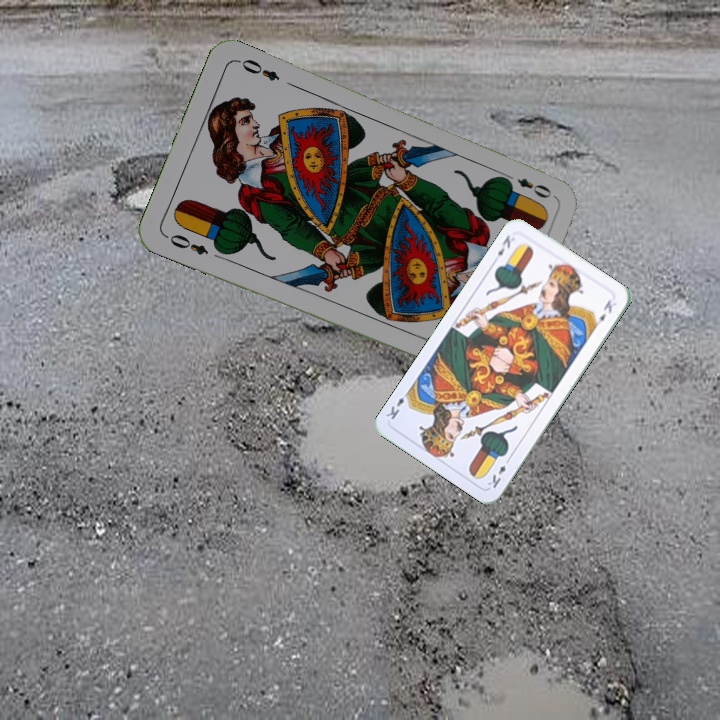EK: (483, 453, 513, 491), (493, 231, 517, 258)
EO: (499, 168, 554, 201), (161, 230, 211, 258)
